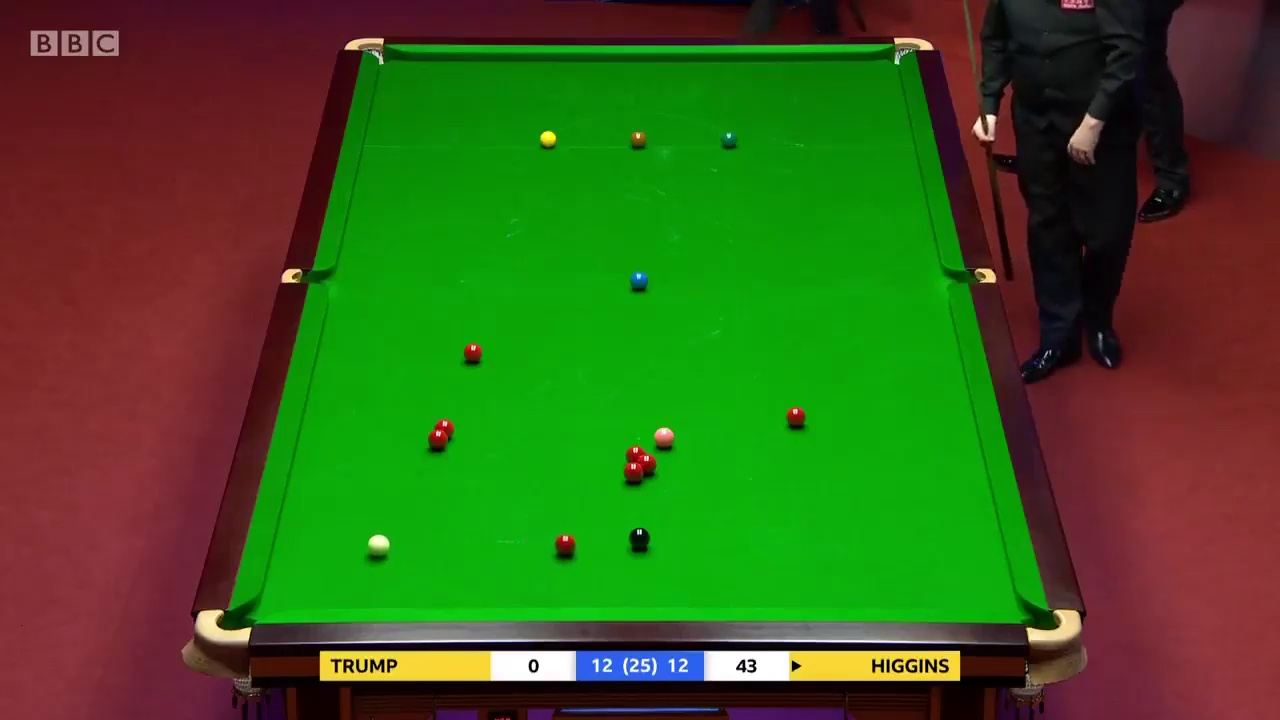ball: (650, 425, 677, 447), (368, 534, 390, 560), (783, 401, 804, 427), (553, 534, 575, 558), (426, 425, 449, 447), (629, 528, 649, 553), (628, 270, 648, 289), (538, 129, 557, 148), (463, 343, 480, 362), (631, 132, 647, 147), (721, 131, 736, 146)
